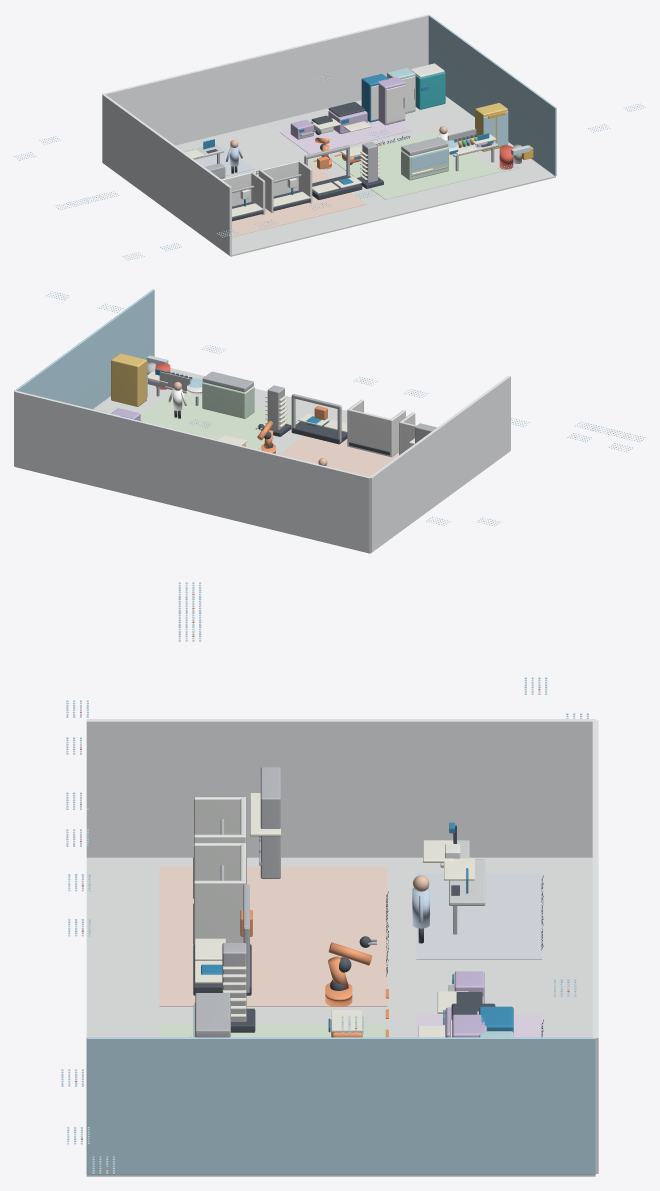
The model's file is ideal_lab_3d_map_20260624.glb.
3 views of the same model, one above another, from view 1: azimuth 30°, elevation 25°; view 2: azimuth 150°, elevation 25°; view 3: azimuth 270°, elevation 25° (orthographic). The views are drawn at different scales.
Visible parts, largest first — view 1: BackWall, Floor, LeftWall, RightGlassWall, WetWorkZone, AutomationZone, MeasurementZone, Minus80_body, OT2 #2 V2 Parallel Handler_frame_back, BSC_cabinet, Incubator Stack_door, DataZone (+14 smaller); view 2: BackWall, LeftWall, RightGlassWall, WetWorkZone, Floor, AutomationZone, CompoundCabinet_body, OT2 #2 V2 Parallel Handler_frame_back, BSC_cabinet, Flex_base, Stacker_column, BSC_filter (+1 smaller); view 3: RightGlassWall, LeftWall, Floor, AutomationZone, DataZone, OT2 #2 V2 Parallel Handler_frame_right, BackWall, LabwareWall_frame, WetWorkZone, OT2 #1 V1 Liquid Handler_frame_left, OT2 #2 V2 Parallel Handler_frame_left, BSC_filter (+3 smaller).
Part boxes in pixels (x1,y1,x2,y2): BackWall: [103, 14, 429, 145]; Floor: [175, 96, 555, 256]; LeftWall: [102, 94, 231, 255]; RightGlassWall: [428, 15, 556, 176]; WetWorkZone: [330, 131, 498, 199]; AutomationZone: [232, 162, 366, 237]; MeasurementZone: [279, 120, 411, 154]; Minus80_body: [415, 72, 445, 109]; OT2 #2 V2 Parallel Handler_frame_back: [261, 160, 298, 196]; BSC_cabinet: [401, 147, 448, 180]; Incubator Stack_door: [386, 85, 405, 123]; DataZone: [195, 146, 253, 176]; BackWall: [14, 390, 370, 552]; LeftWall: [370, 375, 510, 552]; RightGlassWall: [14, 289, 154, 409]; WetWorkZone: [140, 392, 299, 449]; Floor: [14, 365, 501, 553]; AutomationZone: [279, 436, 398, 476]; CompoundCabinet_body: [111, 353, 146, 406]; OT2 #2 V2 Parallel Handler_frame_back: [349, 409, 390, 456]; BSC_cabinet: [202, 382, 254, 418]; Flex_base: [291, 421, 347, 444]; Stacker_column: [267, 385, 284, 430]; BSC_filter: [202, 371, 253, 392]; RightGlassWall: [86, 1037, 595, 1174]; LeftWall: [86, 719, 595, 857]; Floor: [86, 857, 595, 1176]; AutomationZone: [159, 867, 387, 1006]; DataZone: [416, 873, 542, 959]; OT2 #2 V2 Parallel Handler_frame_right: [194, 880, 246, 944]; BackWall: [592, 720, 598, 1173]; LabwareWall_frame: [260, 767, 280, 878]; WetWorkZone: [159, 1024, 387, 1037]; OT2 #1 V1 Liquid Handler_frame_left: [194, 796, 246, 834]; OT2 #2 V2 Parallel Handler_frame_left: [194, 843, 246, 880]; BSC_filter: [195, 993, 230, 1037].
Size of the model in its own units: 26.92 by 3.16 by 11.08.
